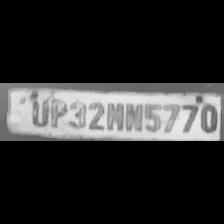0: (196, 102, 218, 134)
2: (84, 99, 106, 131)
3: (67, 98, 85, 130)
5: (140, 100, 162, 134)
7: (176, 101, 196, 133), (160, 101, 178, 133)
N: (123, 99, 141, 133), (104, 99, 122, 131)
P: (47, 97, 66, 128)
U: (28, 97, 48, 127)
